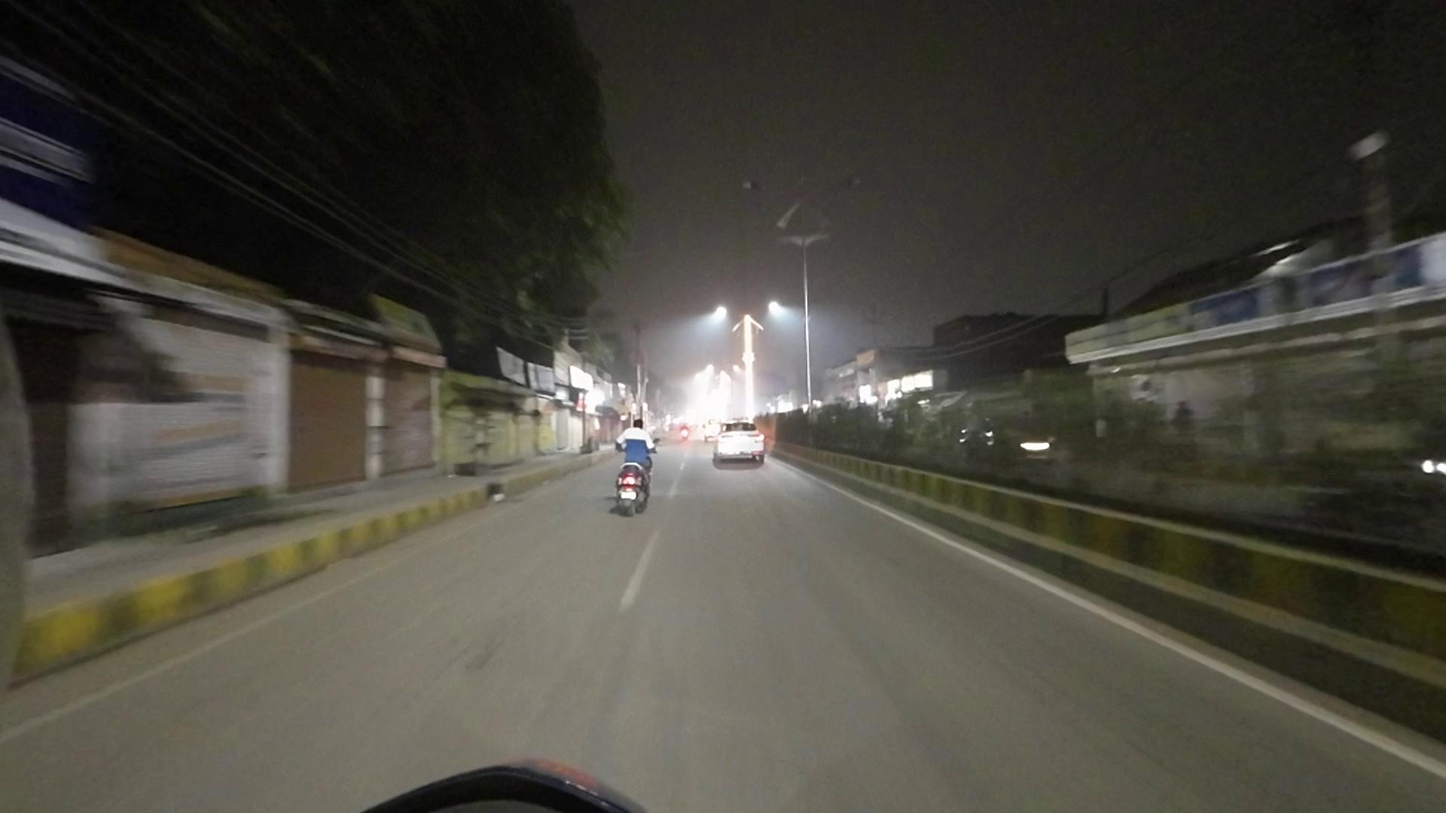streetlight: (735, 178, 795, 196), (813, 175, 864, 194)
